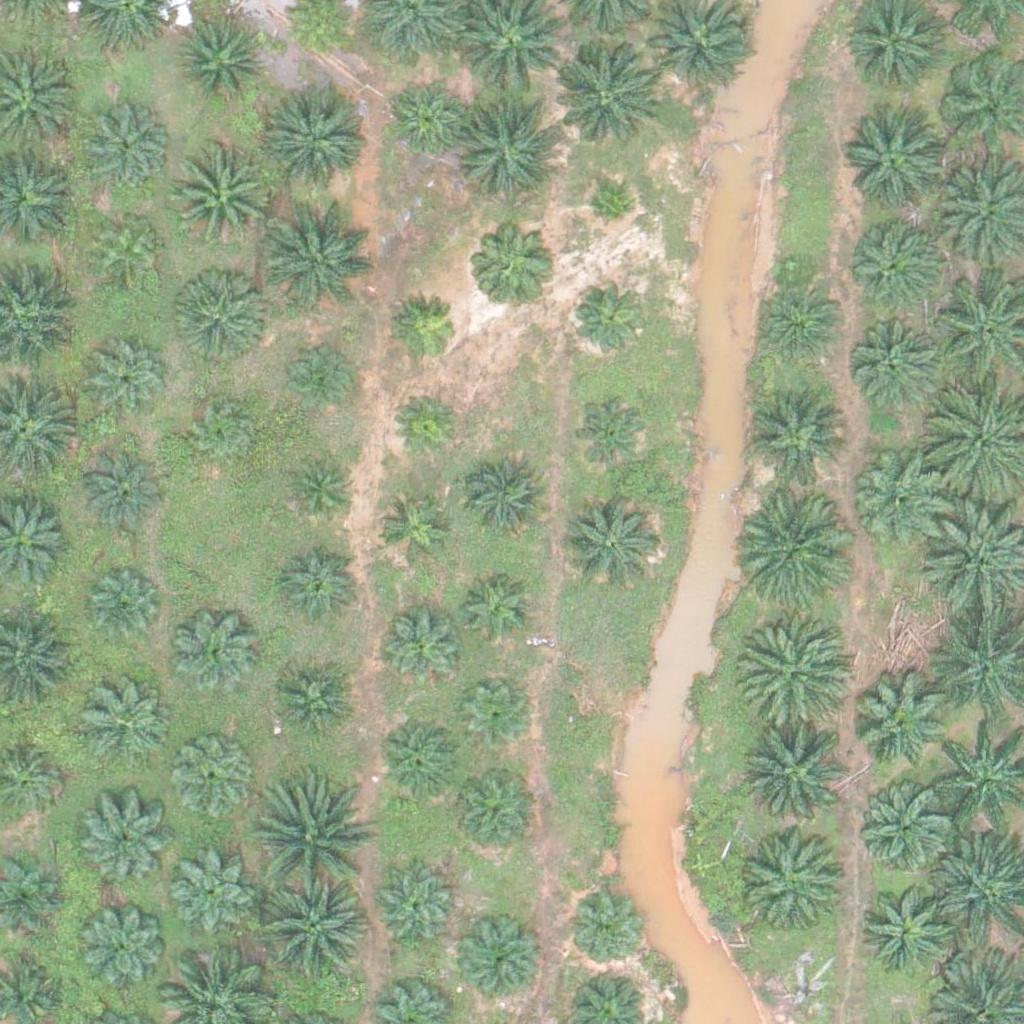Kelapa_Sawit: (739, 489, 852, 603), (735, 613, 848, 726), (257, 785, 370, 898), (545, 40, 658, 153), (742, 722, 854, 836), (255, 878, 367, 991), (265, 201, 377, 314), (457, 92, 569, 205), (852, 779, 952, 880), (856, 875, 956, 976), (745, 831, 845, 932), (560, 495, 660, 596), (170, 147, 270, 248), (267, 86, 367, 187), (845, 206, 945, 307), (845, 114, 945, 215), (747, 386, 847, 487), (849, 672, 949, 772), (171, 266, 271, 366), (852, 449, 952, 549), (848, 308, 948, 408), (377, 601, 465, 690), (569, 389, 657, 478), (275, 545, 363, 633), (263, 661, 351, 749), (447, 768, 535, 856), (79, 804, 167, 892), (79, 905, 167, 993), (169, 737, 257, 825), (384, 78, 472, 166), (78, 450, 166, 538), (85, 332, 173, 420), (469, 215, 557, 303), (463, 454, 551, 542), (376, 716, 463, 804), (369, 864, 456, 952), (458, 921, 545, 1009), (171, 608, 258, 696), (168, 850, 255, 938), (82, 681, 169, 769), (83, 99, 170, 187), (177, 19, 264, 107), (567, 271, 654, 359), (754, 274, 841, 362), (86, 571, 161, 647), (284, 342, 359, 418), (459, 681, 534, 757), (568, 894, 643, 970), (282, 454, 357, 530), (389, 292, 464, 367), (90, 213, 165, 288), (374, 492, 449, 567), (188, 397, 263, 472), (462, 576, 537, 651), (389, 388, 464, 463), (586, 186, 636, 236)
